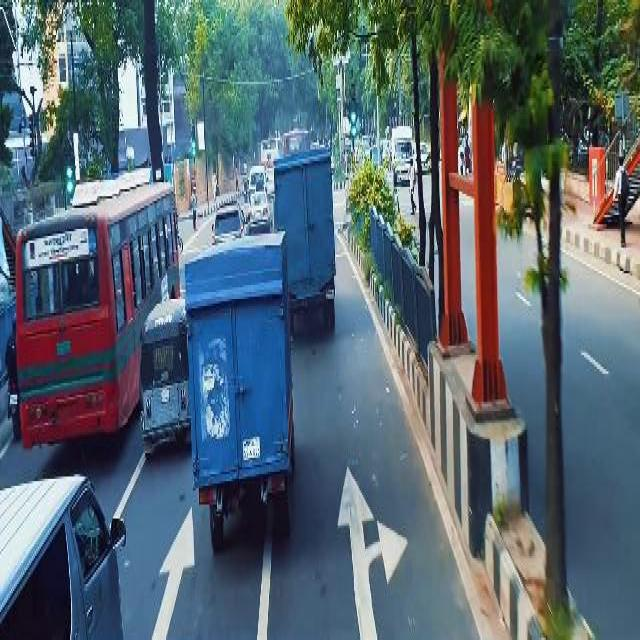vehicle: (185, 228, 298, 555), (12, 175, 138, 448), (271, 146, 339, 342), (137, 296, 193, 450), (390, 124, 417, 189), (246, 184, 273, 231)
